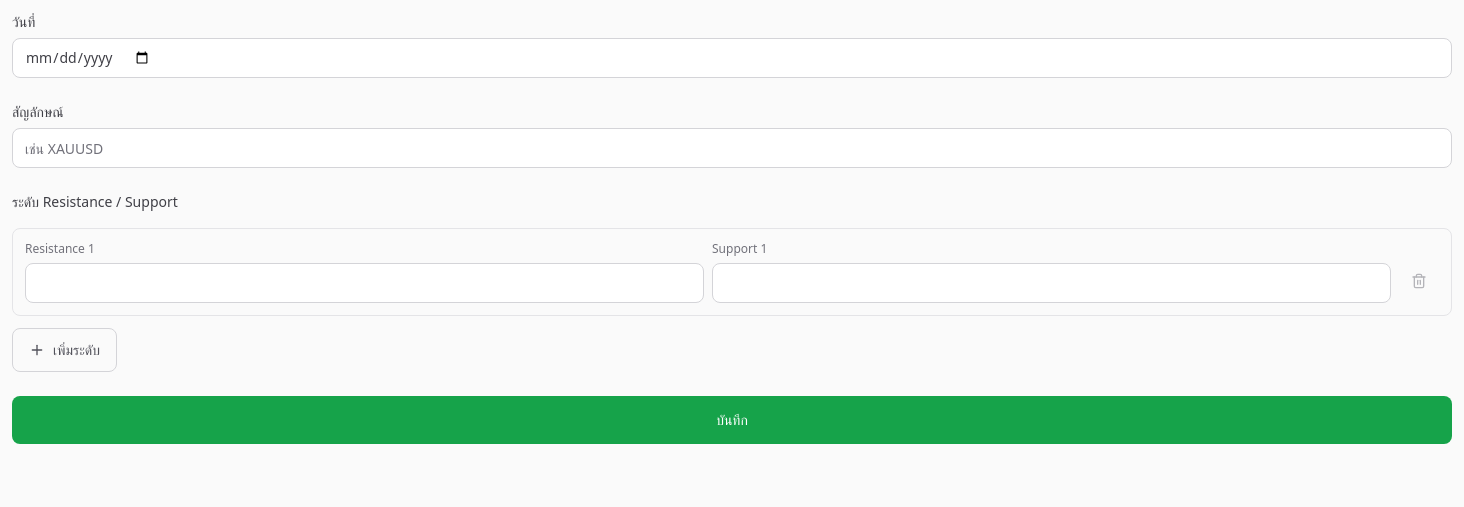
Test case: PriceAlertForm › shows an error when symbol is empty
The width and height of the screenshot is (1464, 507).
Type "2026-01-01" into the date field labelled "วันที่" at coordinates (732, 58), box [12,38,1452,78]
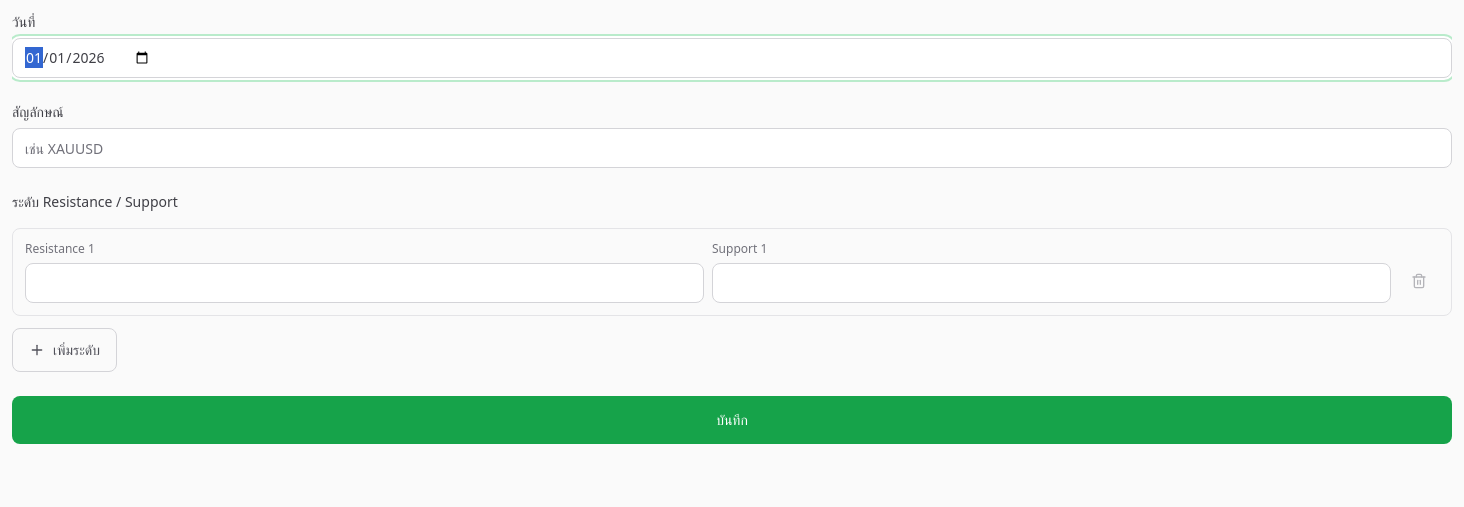
Type "100" into the number field labelled "Resistance 1" at coordinates (364, 283), box [25,263,704,303]
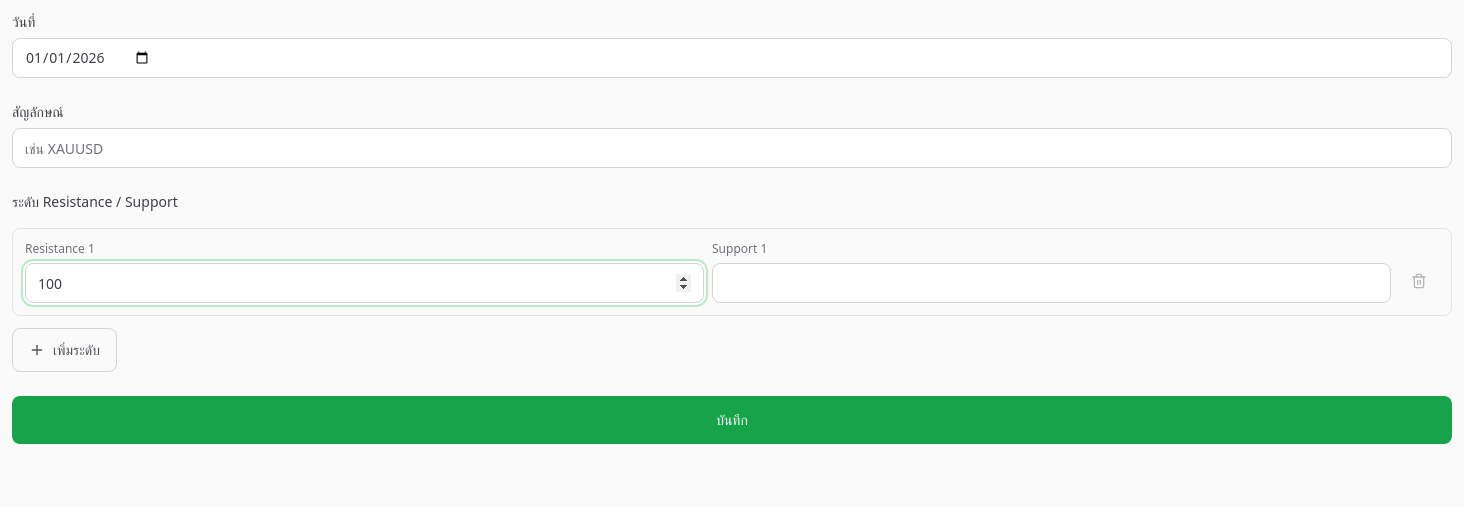
Click the button "บันทึก" at coordinates (732, 420), box [12,396,1452,444]
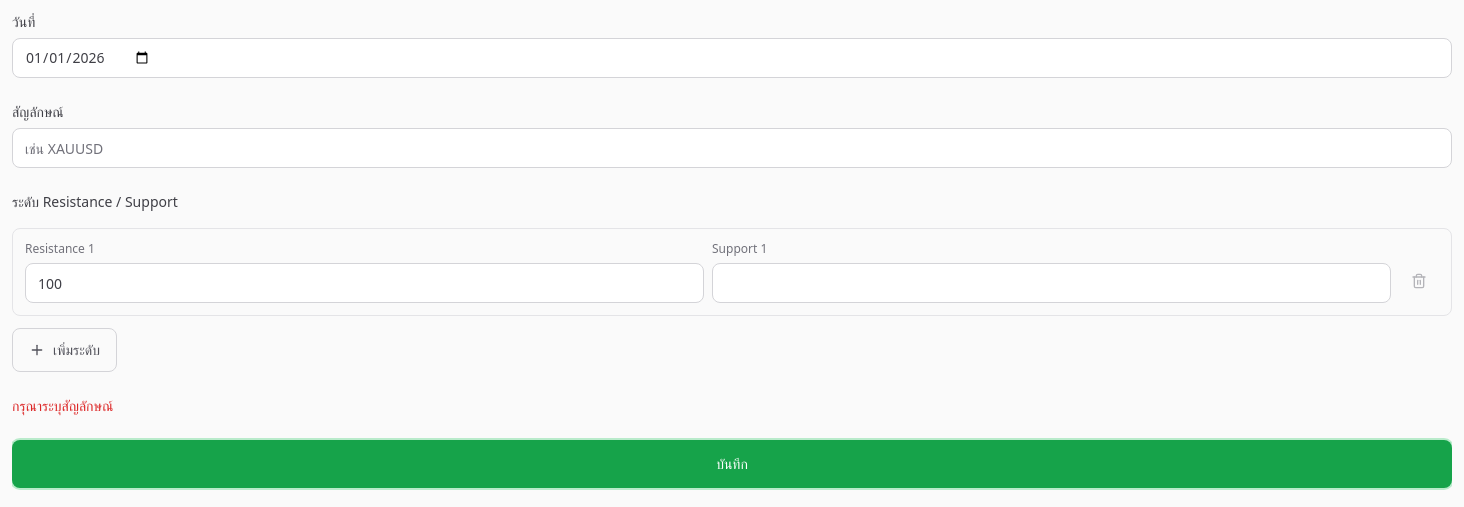
Now the message reads "กรุณาระบุสัญลักษณ์", box [12,396,113,415]
